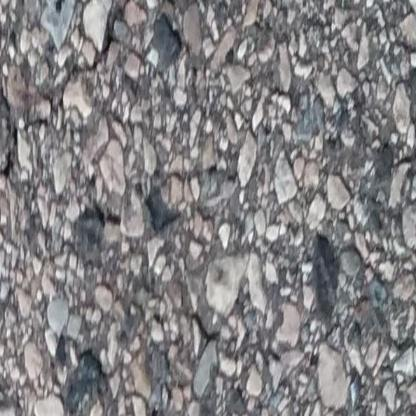Cracks: (0, 0, 138, 180)
